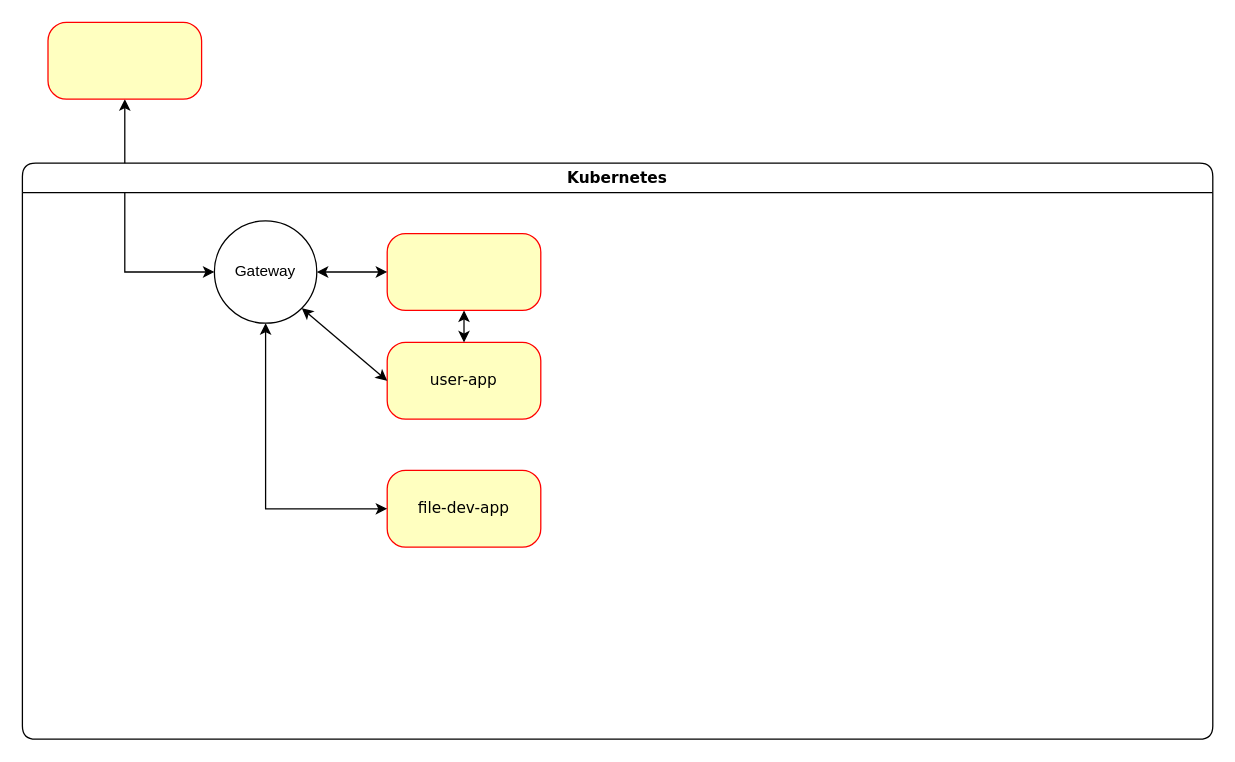
This 1235x762 diagram has some shape labels left out. The shapes that lost their labels are listed below. From the top down, each one's centre as x and y in pixels, then its label:
[124,60]: PlaySM
[463,271]: auth-app
